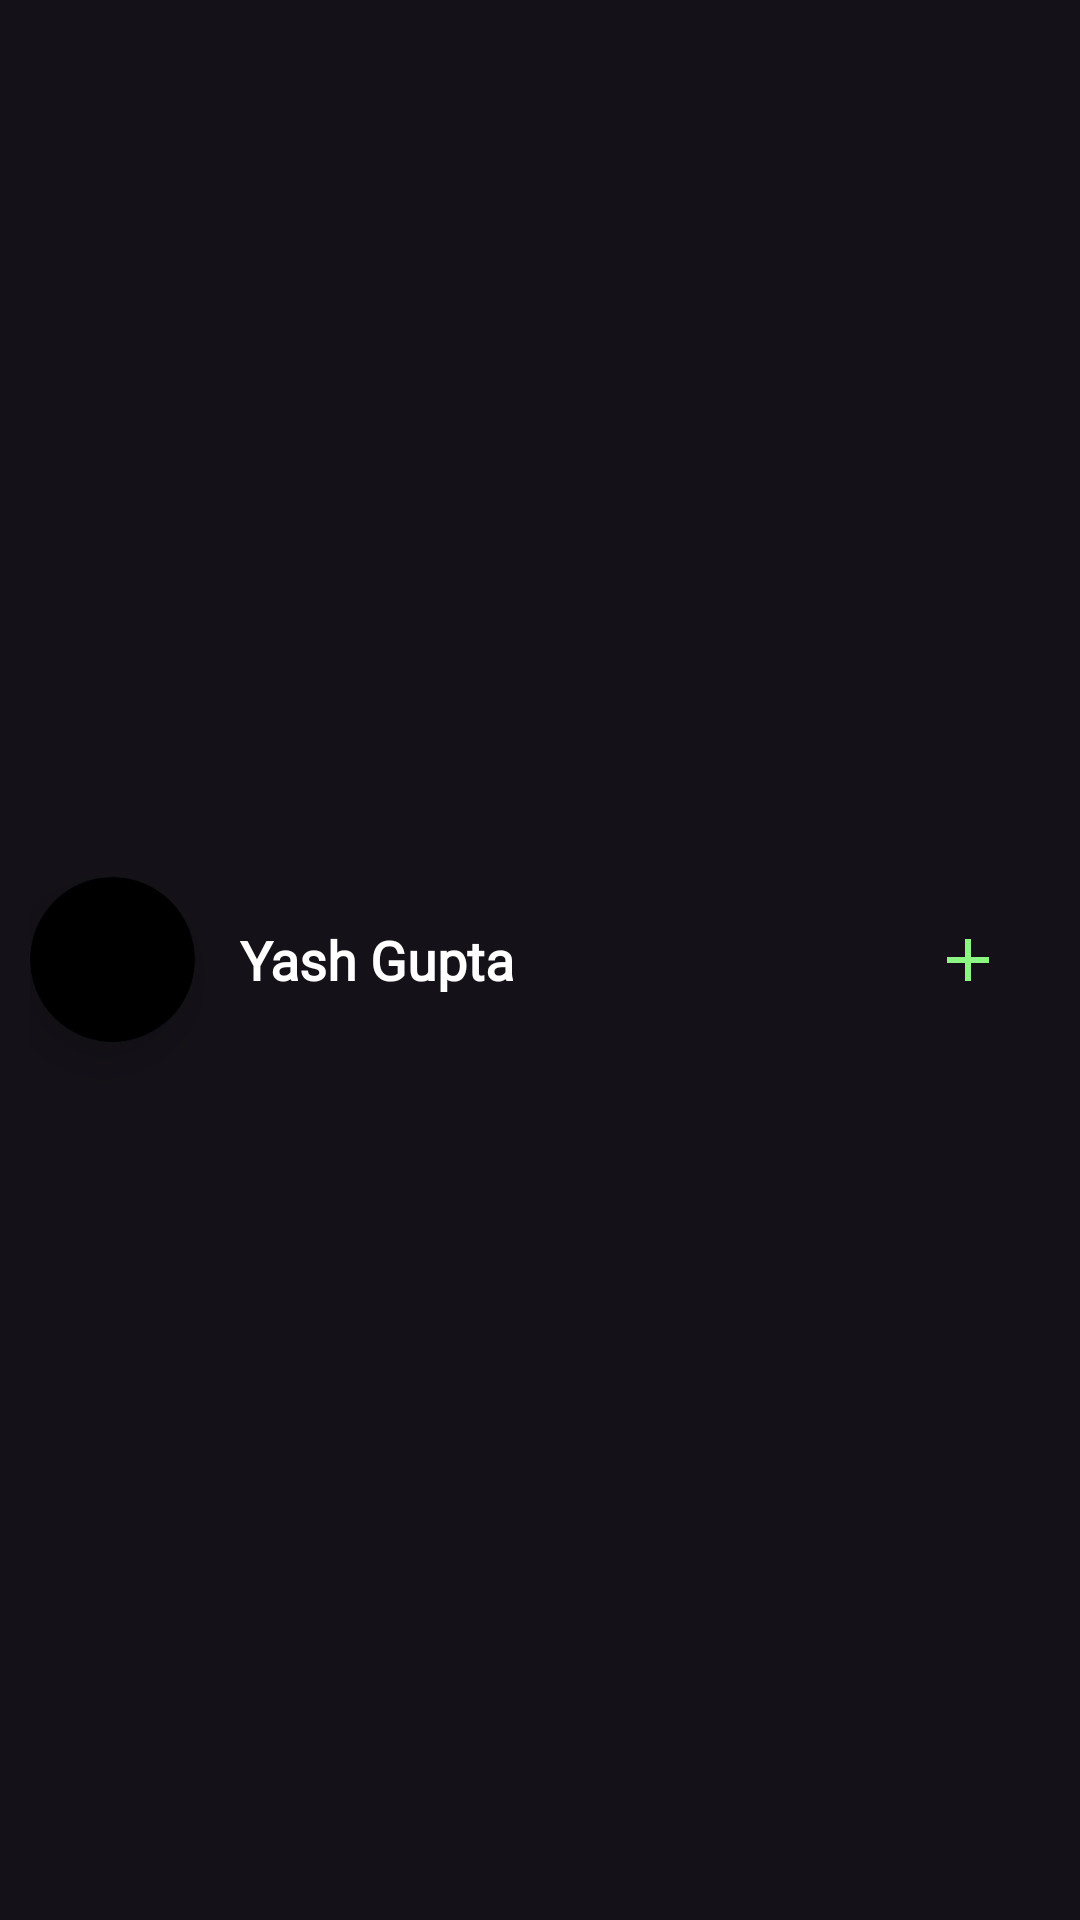

Icons on this 1080w x 1920h Android screen, each with its box as (x1=x1, y1=y1, x2=x2, y2=y2):
add: (x1=947, y1=939, x2=989, y2=981)
